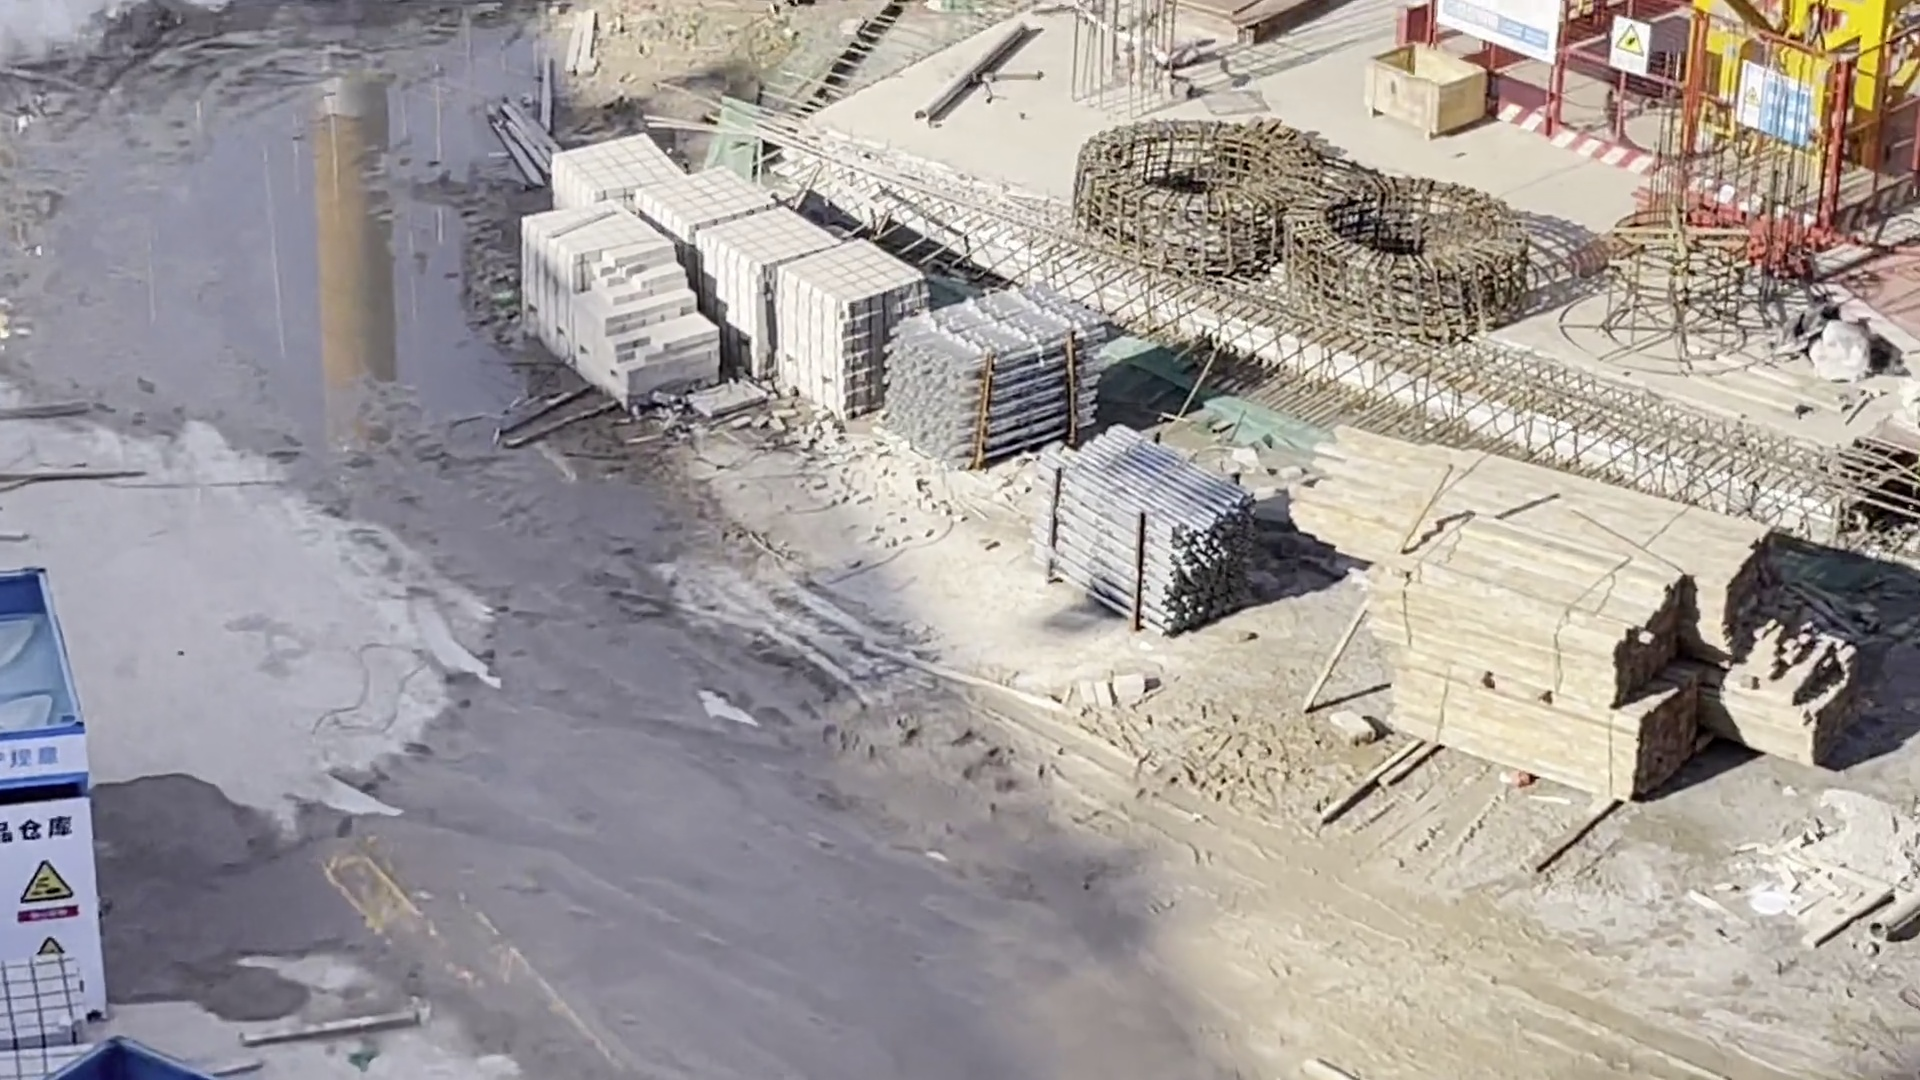brick: (524, 157, 864, 415)
scaffold: (1043, 438, 1286, 638), (887, 287, 1073, 429)
wood: (1358, 425, 1847, 828)
